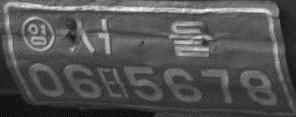0: (27, 62, 63, 98)
5: (127, 66, 162, 102)
6: (163, 67, 200, 103), (64, 63, 98, 101)
7: (201, 68, 233, 104)
8: (238, 69, 276, 106)
서울_D: (68, 16, 212, 58)
영: (19, 15, 55, 53)
타: (100, 67, 126, 100)
